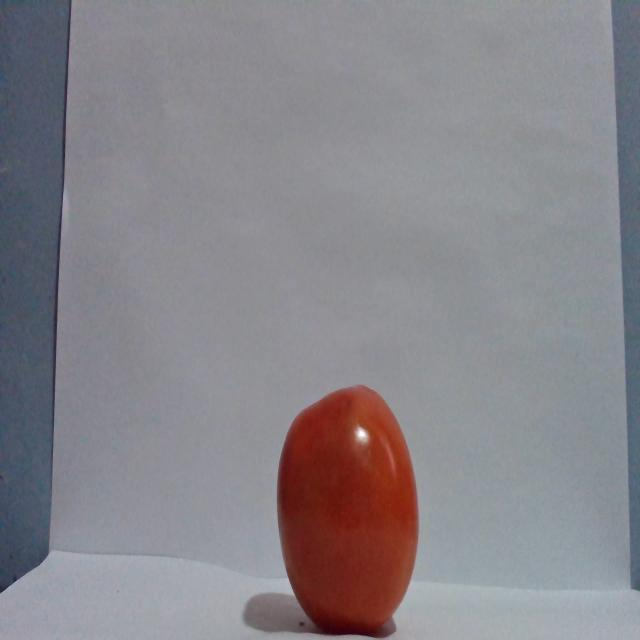Red: (274, 383, 420, 634)
